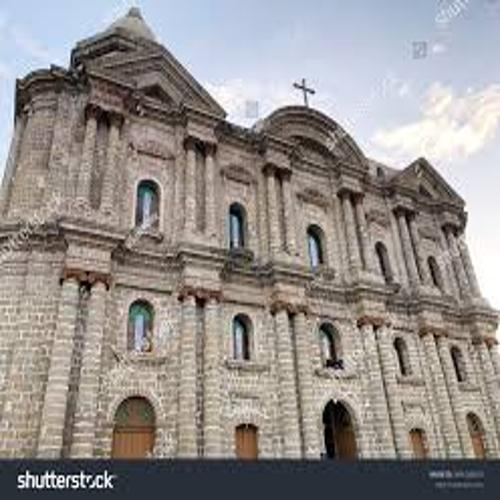Taal Basilica Church: (11, 8, 500, 459)
